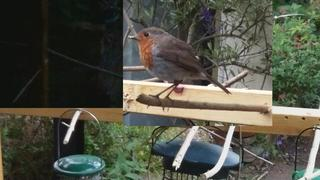robin: (127, 26, 232, 113)
